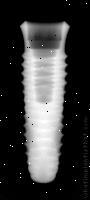Cowellmedi: (20, 22, 70, 184)
